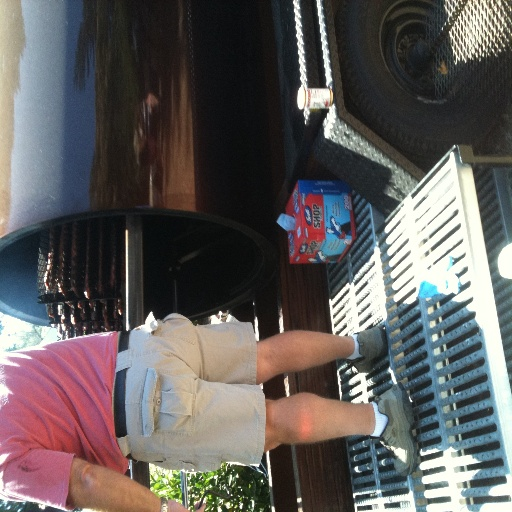hand: (163, 497, 187, 511)
